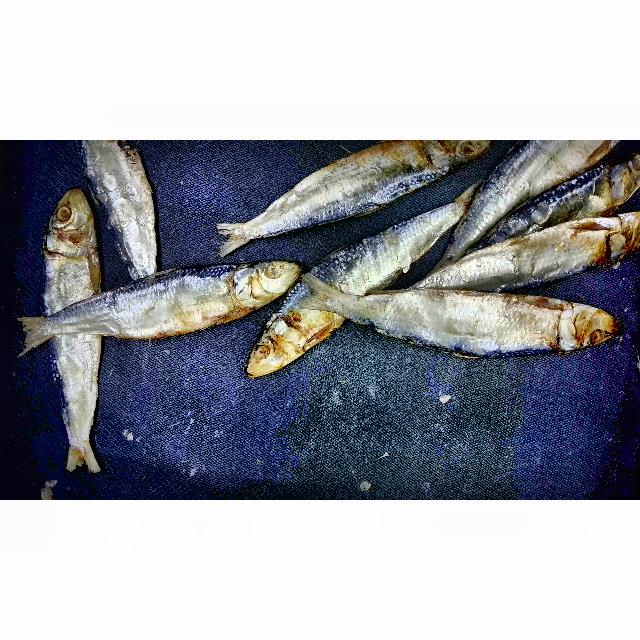Grade_C_Body: (359, 287, 549, 362), (319, 204, 459, 286), (83, 263, 231, 340), (462, 215, 613, 290), (279, 140, 426, 217), (81, 141, 162, 276), (497, 164, 611, 241), (485, 140, 594, 208), (45, 332, 105, 409), (43, 257, 107, 299)
Grade_C_Head: (242, 299, 316, 381), (37, 184, 102, 272), (225, 249, 300, 316), (545, 294, 620, 354), (427, 140, 493, 180)
Grade_C_Tail: (11, 303, 68, 357), (296, 266, 350, 320), (212, 208, 262, 261), (60, 430, 103, 475)
